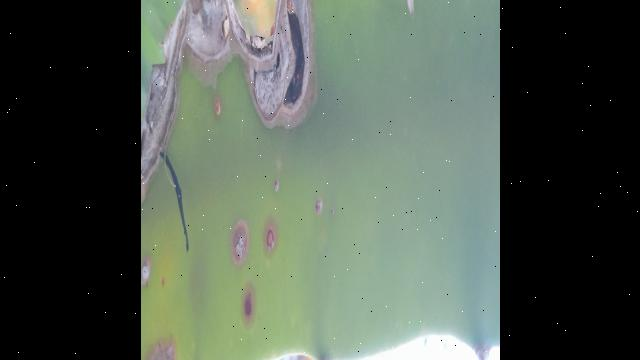stemcanker: (228, 214, 253, 270), (237, 280, 259, 333), (261, 214, 281, 258), (141, 248, 157, 294), (310, 187, 329, 224), (209, 89, 227, 122), (269, 172, 287, 198)
